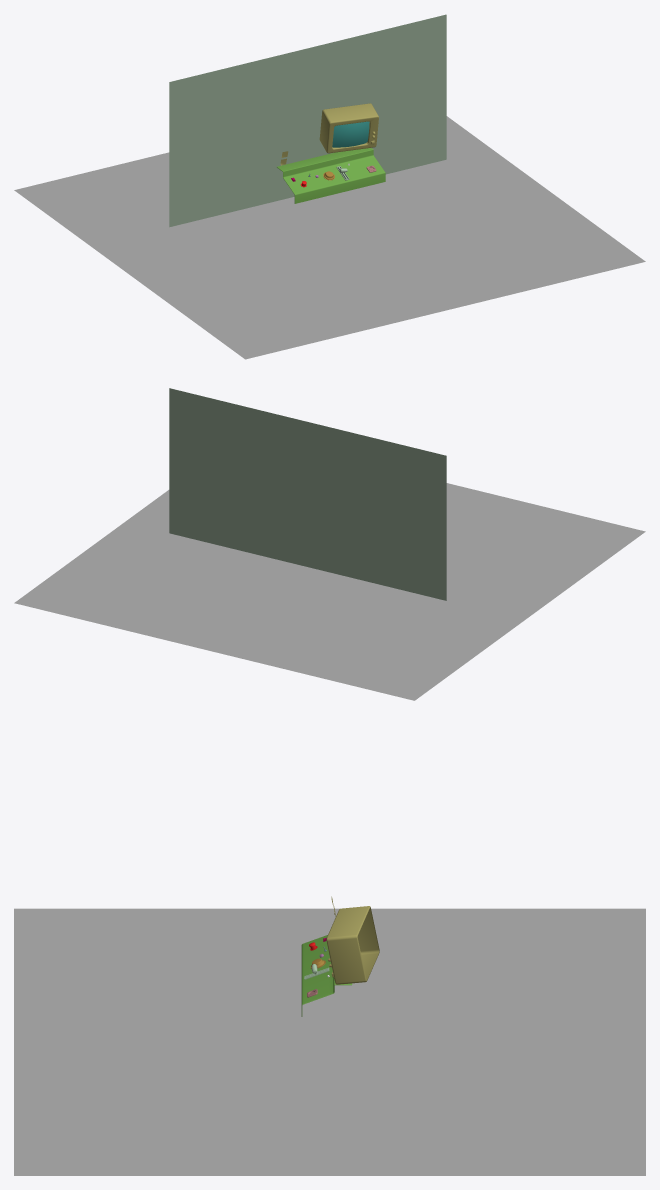
File: UVdone.fbx
3 views of the same model, one above another, from view 1: azimuth 30°, elevation 25°; view 2: azimuth 150°, elevation 25°; view 3: azimuth 270°, elevation 25° (orthographic). The views are drawn at different scales.
Parts seen in each view (by area): view 1: Floor, WallL, WallR, Base, Moniter, Glass; view 2: Floor, WallL, WallR; view 3: Floor, Moniter, Base.
Boxes of the visible parts, x1,y1,x2,y2 form: Floor: (14,116,645,359); WallL: (169,48,307,227); WallR: (308,14,446,174); Base: (277,148,385,203); Moniter: (319,103,378,153); Glass: (332,121,369,147); Floor: (14,483,645,700); WallL: (308,422,446,600); WallR: (169,388,307,566); Floor: (14,908,645,1175); Moniter: (326,906,379,984); Base: (301,935,352,1016).
Bounding box in the file's own units: 2310 × 890 × 2310.
